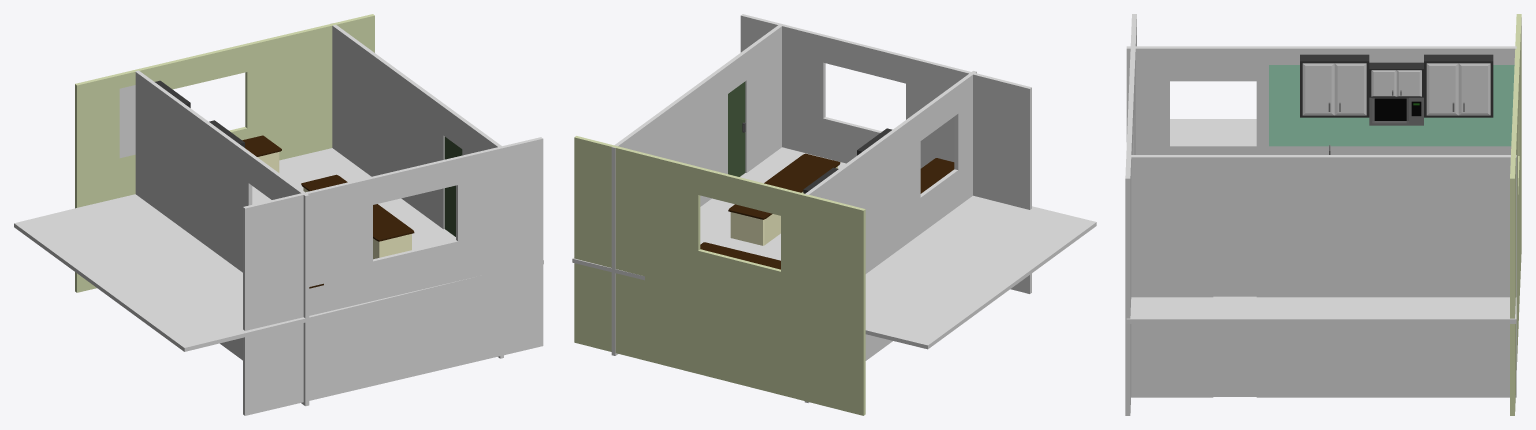
Rendered from kitchen.fbx.
3 renders of one model, left to right at view 1: azimuth 30°, elevation 25°; view 2: azimuth 150°, elevation 25°; view 3: azimuth 270°, elevation 25°, orthographic. The views are drawn at different scales.
Parts seen in each view (by area): view 1: Cube.016, Cube.004, Cube.008, Cube.003, Cube.015, Cube.011, Cube.012, Cube.013; view 2: Cube.008, Cube.004, Cube.016, Cube.015, Cube.003, Cube.011, Cube.012, Cube.013, Cube.002; view 3: Cube.015, Cube.003, Cube.004, Cube, Cube.007, Cube.008, Cube.016, Cube.006, Cube.005.
Boxes of the visible parts, box(x1,y1,x2,y2) form: Cube.016: box(243, 137, 543, 415); Cube.004: box(14, 148, 543, 351); Cube.008: box(75, 14, 374, 292); Cube.003: box(135, 70, 309, 406); Cube.015: box(330, 23, 503, 358); Cube.011: box(301, 174, 414, 241); Cube.012: box(303, 187, 411, 259); Cube.013: box(242, 135, 281, 156); Cube.008: box(574, 136, 865, 415); Cube.004: box(572, 147, 1096, 349); Cube.016: box(740, 14, 1031, 293); Cube.015: box(611, 23, 783, 355); Cube.003: box(804, 71, 976, 402); Cube.011: box(728, 153, 840, 219); Cube.012: box(730, 166, 837, 245); Cube.013: box(700, 242, 780, 269); Cube.002: box(920, 158, 954, 193); Cube.015: box(1126, 155, 1516, 397); Cube.003: box(1126, 46, 1516, 154); Cube.004: box(1126, 119, 1516, 323); Cube: box(1300, 54, 1369, 117); Cube.007: box(1424, 54, 1493, 117); Cube.008: box(1510, 14, 1521, 415); Cube.016: box(1125, 14, 1136, 415); Cube.006: box(1369, 62, 1423, 97); Cube.005: box(1369, 97, 1423, 125).
Bounding box in the file's own units: 3496 × 1954 × 2919.
